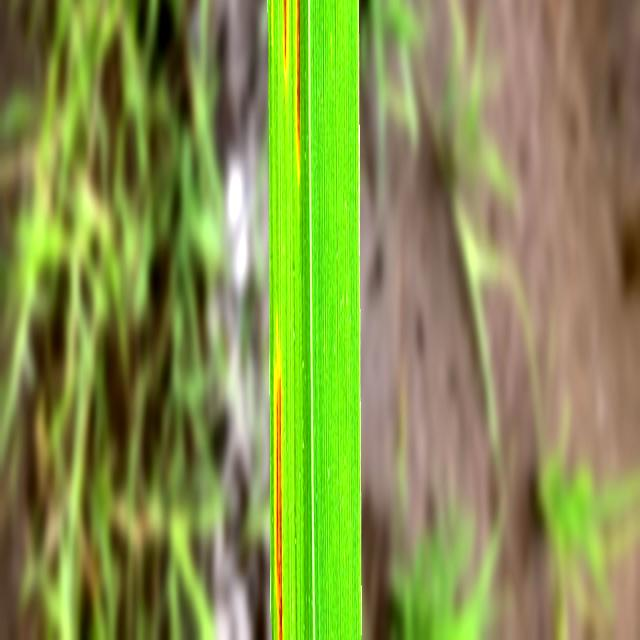NBS: (273, 308, 282, 638), (295, 0, 300, 189), (283, 0, 288, 85)
